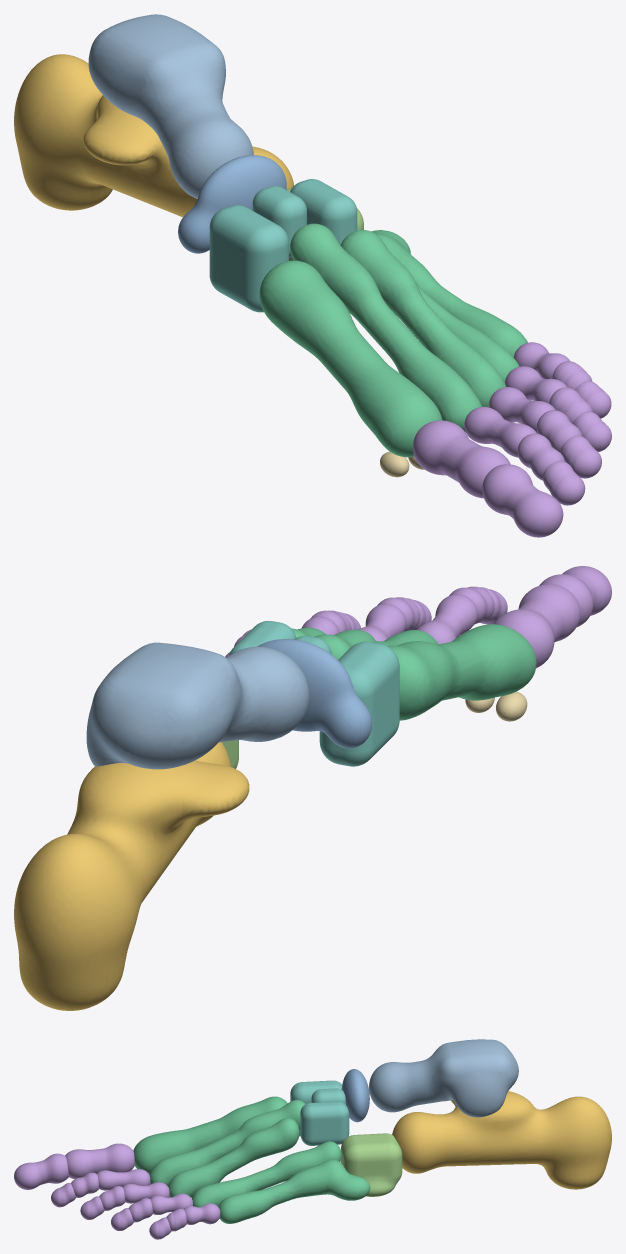
Rendered from esqueleto-pie.glb.
3 views of the same model, one above another, from view 1: azimuth 30°, elevation 25°; view 2: azimuth 150°, elevation 25°; view 3: azimuth 270°, elevation 25° (orthographic). The views are drawn at different scales.
Visible parts, largest first — view 1: calcaneus_L, talus_L, metatarsal_1_L, metatarsal_2_L, metatarsal_3_L, cuneiform_medial_L, navicular_L, hallux_proximal_phalanx_L, hallux_distal_phalanx_L, metatarsal_5_L, cuneiform_lateral_L, toe2_proximal_phalanx_L (+13 smaller); view 2: calcaneus_L, talus_L, metatarsal_1_L, navicular_L, cuneiform_medial_L, hallux_proximal_phalanx_L, hallux_distal_phalanx_L, toe2_proximal_phalanx_L, metatarsal_2_L, toe3_proximal_phalanx_L, cuneiform_lateral_L, toe2_middle_phalanx_L (+2 smaller); view 3: calcaneus_L, talus_L, metatarsal_5_L, metatarsal_1_L, metatarsal_3_L, cuboid_L, metatarsal_4_L, metatarsal_2_L, cuneiform_lateral_L, hallux_proximal_phalanx_L, hallux_distal_phalanx_L, navicular_L (+14 smaller).
Part boxes in pixels (x1,y1,x2,y2): calcaneus_L: [14, 54, 294, 217]; talus_L: [88, 14, 253, 198]; metatarsal_1_L: [259, 260, 442, 457]; metatarsal_2_L: [290, 223, 482, 432]; metatarsal_3_L: [340, 230, 506, 407]; cuneiform_medial_L: [209, 205, 288, 312]; navicular_L: [178, 155, 286, 253]; hallux_proximal_phalanx_L: [413, 420, 510, 498]; hallux_distal_phalanx_L: [482, 464, 563, 537]; metatarsal_5_L: [372, 230, 527, 356]; cuneiform_lateral_L: [290, 179, 357, 244]; toe2_proximal_phalanx_L: [464, 406, 536, 457]; calcaneus_L: [14, 742, 249, 1010]; talus_L: [86, 642, 309, 769]; metatarsal_1_L: [387, 624, 536, 720]; navicular_L: [257, 639, 372, 748]; cuneiform_medial_L: [319, 641, 399, 766]; hallux_proximal_phalanx_L: [494, 584, 580, 668]; hallux_distal_phalanx_L: [539, 566, 611, 627]; toe2_proximal_phalanx_L: [417, 594, 477, 644]; metatarsal_2_L: [314, 629, 438, 659]; toe3_proximal_phalanx_L: [358, 604, 406, 641]; cuneiform_lateral_L: [229, 621, 296, 655]; toe2_middle_phalanx_L: [449, 586, 494, 624]; calcaneus_L: [392, 1091, 611, 1189]; talus_L: [369, 1039, 518, 1117]; metatarsal_5_L: [218, 1159, 370, 1223]; metatarsal_1_L: [133, 1096, 287, 1173]; metatarsal_3_L: [168, 1118, 299, 1197]; cuboid_L: [341, 1133, 402, 1196]; metatarsal_4_L: [192, 1141, 341, 1207]; metatarsal_2_L: [149, 1100, 305, 1186]; cuneiform_lateral_L: [300, 1101, 349, 1145]; hallux_proximal_phalanx_L: [65, 1143, 134, 1179]; hallux_distal_phalanx_L: [14, 1153, 68, 1189]; navicular_L: [341, 1069, 369, 1122].
Size of the model in its own units: 0.083 by 0.0718 by 0.2708.
